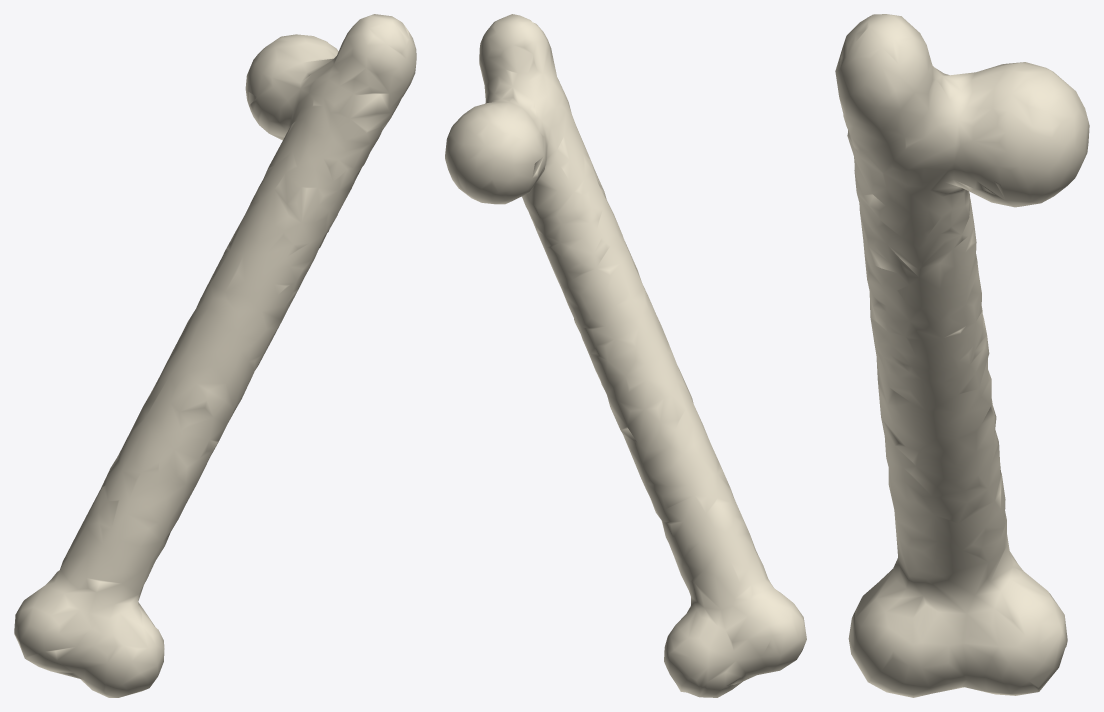
Rendered from femur_l.glb.
3 views of the same model, side by side, from view 1: azimuth 30°, elevation 25°; view 2: azimuth 150°, elevation 25°; view 3: azimuth 270°, elevation 25° (orthographic). The views are drawn at different scales.
Parts seen in each view (by area): view 1: geometry_0; view 2: geometry_0; view 3: geometry_0.
Part boxes in pixels (x1,y1,x2,y2): geometry_0: [14, 14, 416, 697]; geometry_0: [445, 14, 806, 697]; geometry_0: [835, 14, 1089, 697].
Size of the model in its own units: 0.5387 by 0.8694 by 0.2392.
